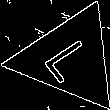L_NE: (37, 31, 102, 86)
